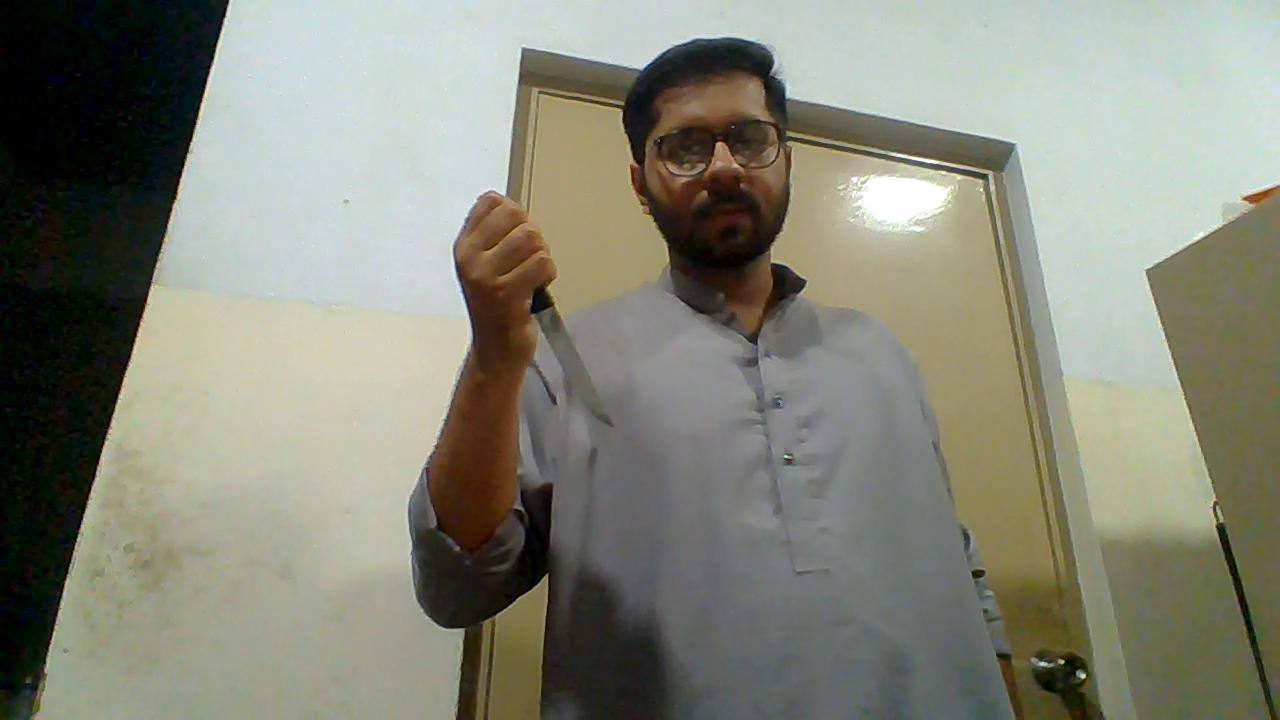criminal: (409, 34, 1024, 720)
weapon: (527, 284, 617, 433)
